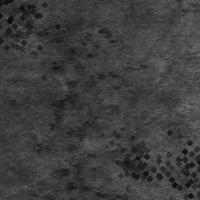rolled-in_scale: (38, 71, 132, 197), (16, 11, 125, 116), (0, 0, 68, 76), (140, 119, 200, 200), (106, 133, 160, 187)
